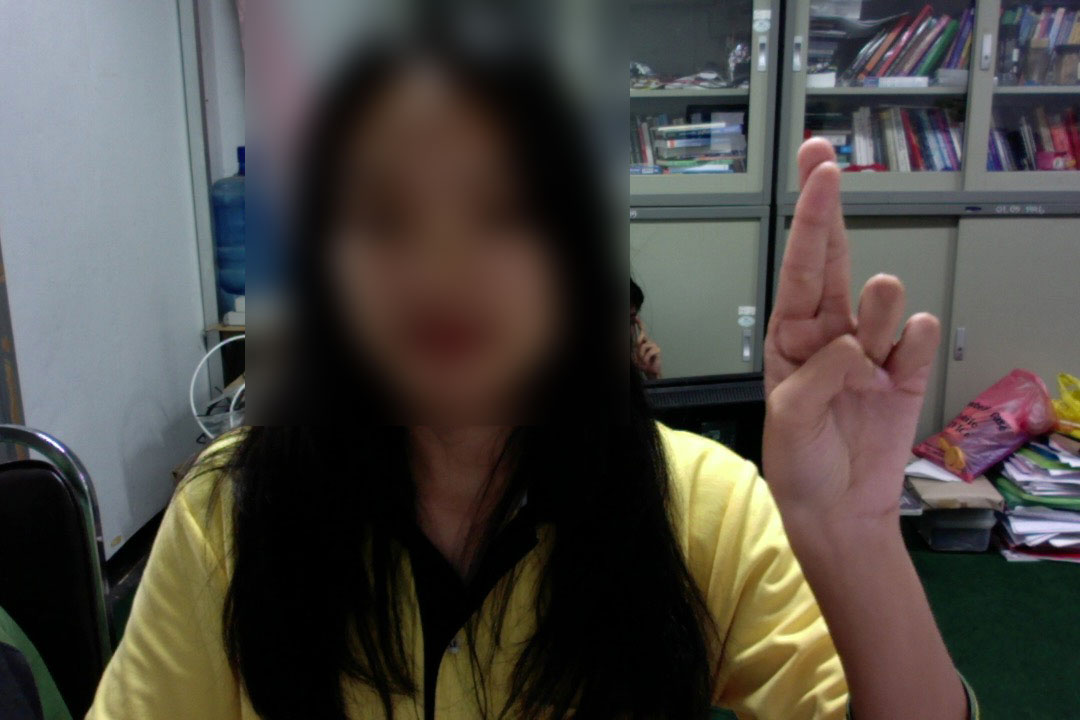rao: (761, 129, 945, 542)
